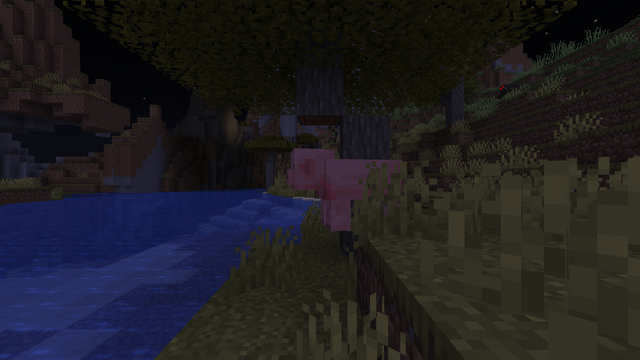araignees: (495, 80, 527, 98)
cochons: (323, 156, 399, 231)
